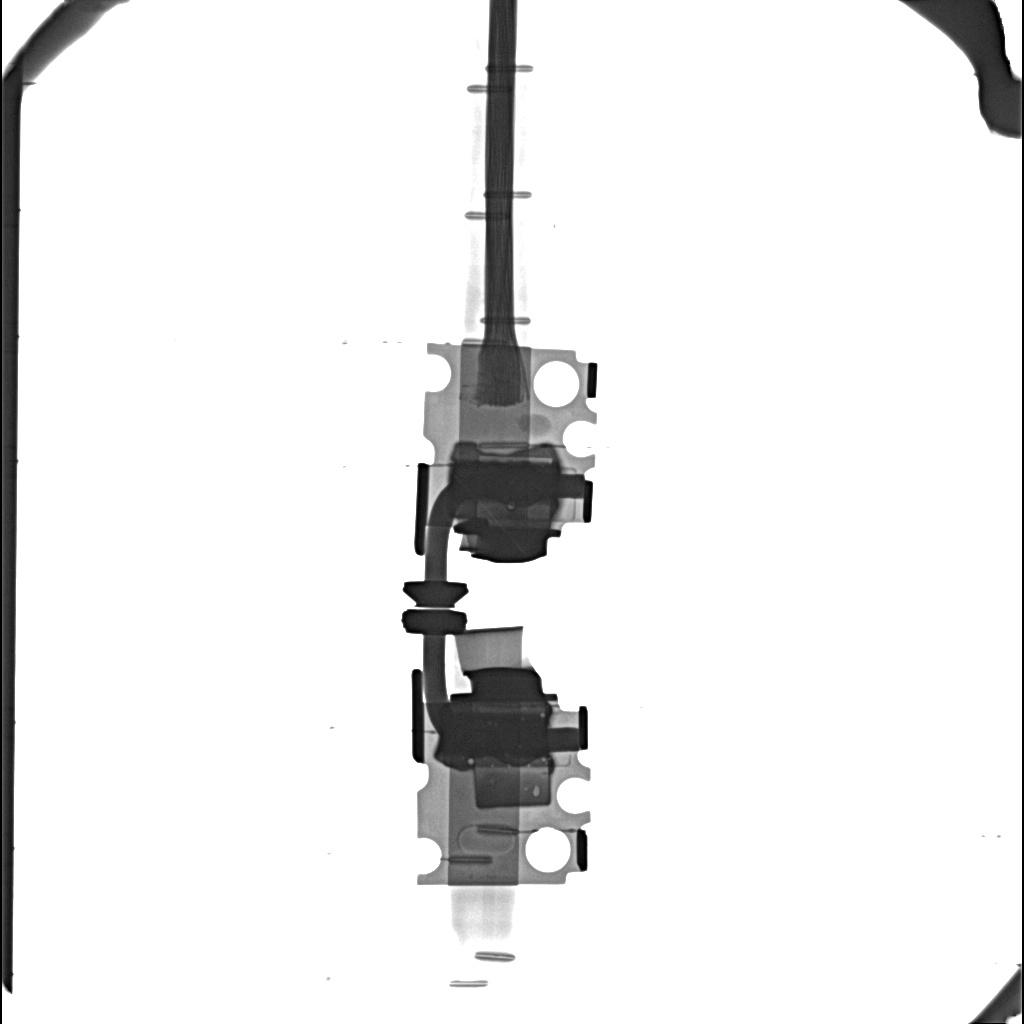defect: (437, 712, 549, 762), (450, 463, 558, 504), (472, 768, 552, 809), (478, 454, 555, 463)
